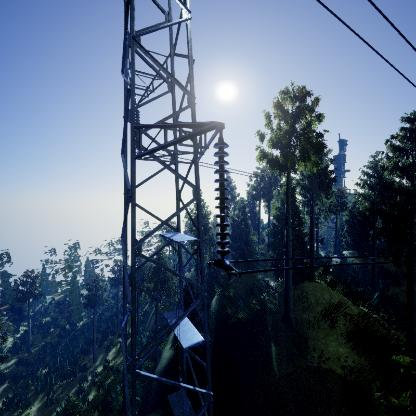insulator: (211, 138, 232, 261)
